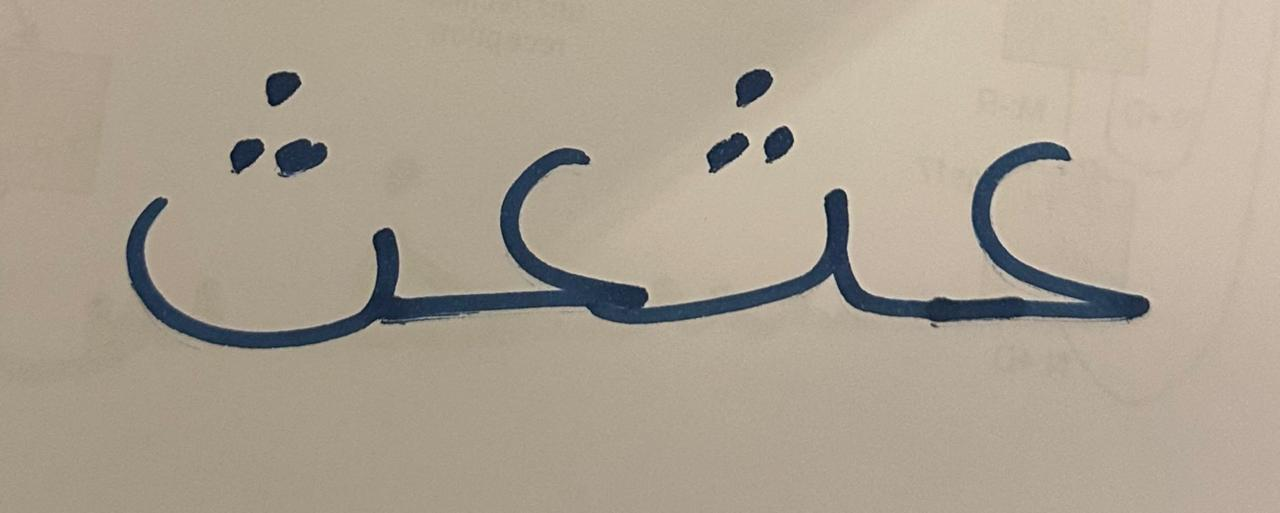ain: (884, 30, 1197, 431), (429, 7, 659, 395)
waw: (101, 6, 426, 396), (663, 4, 880, 405)
